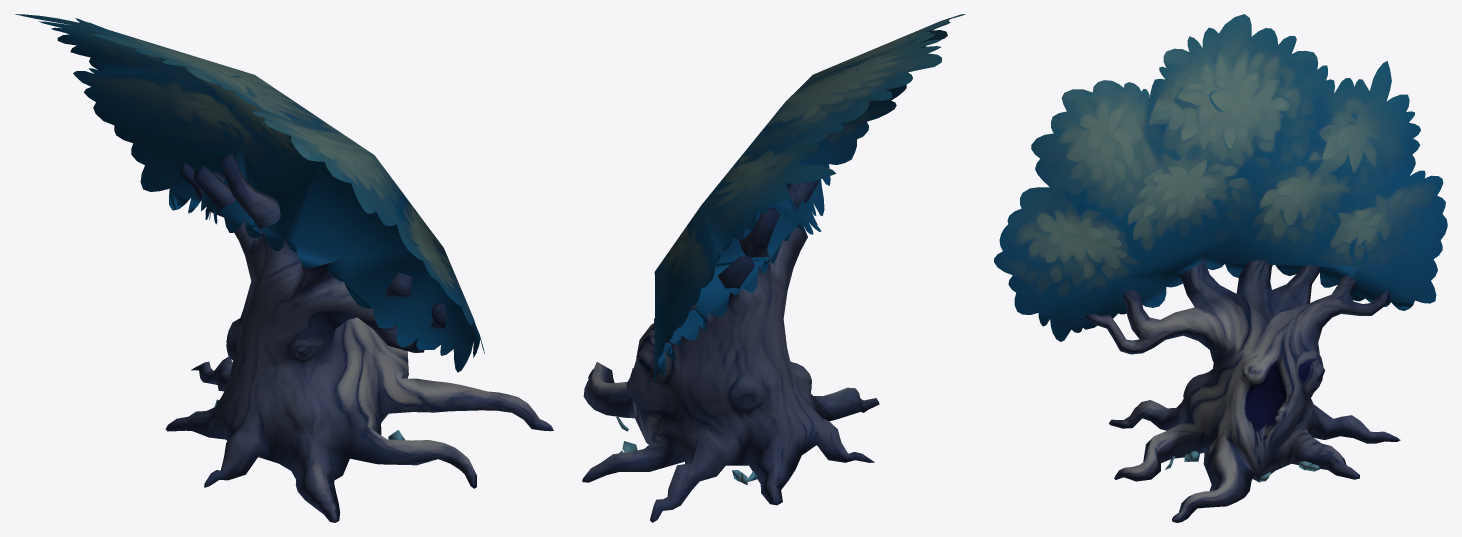
File: map_yew_tripo.glb
The picture shows the model from 3 angles, left to right: view 1: azimuth 30°, elevation 25°; view 2: azimuth 150°, elevation 25°; view 3: azimuth 270°, elevation 25°; orthographic projection. The views are drawn at different scales.
Parts seen in each view (by area): view 1: tripo_node_4e21856d-9950-44f9-9eac-2a9e3515f504; view 2: tripo_node_4e21856d-9950-44f9-9eac-2a9e3515f504; view 3: tripo_node_4e21856d-9950-44f9-9eac-2a9e3515f504.
Part boxes in pixels (x1,y1,x2,y2): tripo_node_4e21856d-9950-44f9-9eac-2a9e3515f504: (15, 14, 553, 522); tripo_node_4e21856d-9950-44f9-9eac-2a9e3515f504: (582, 14, 965, 522); tripo_node_4e21856d-9950-44f9-9eac-2a9e3515f504: (994, 14, 1447, 522).
Size of the model in its own units: 0.8066 by 0.8652 by 0.998.
Materials: 1 (1 with a texture image).
